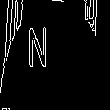N_S: (44, 29, 66, 81)
